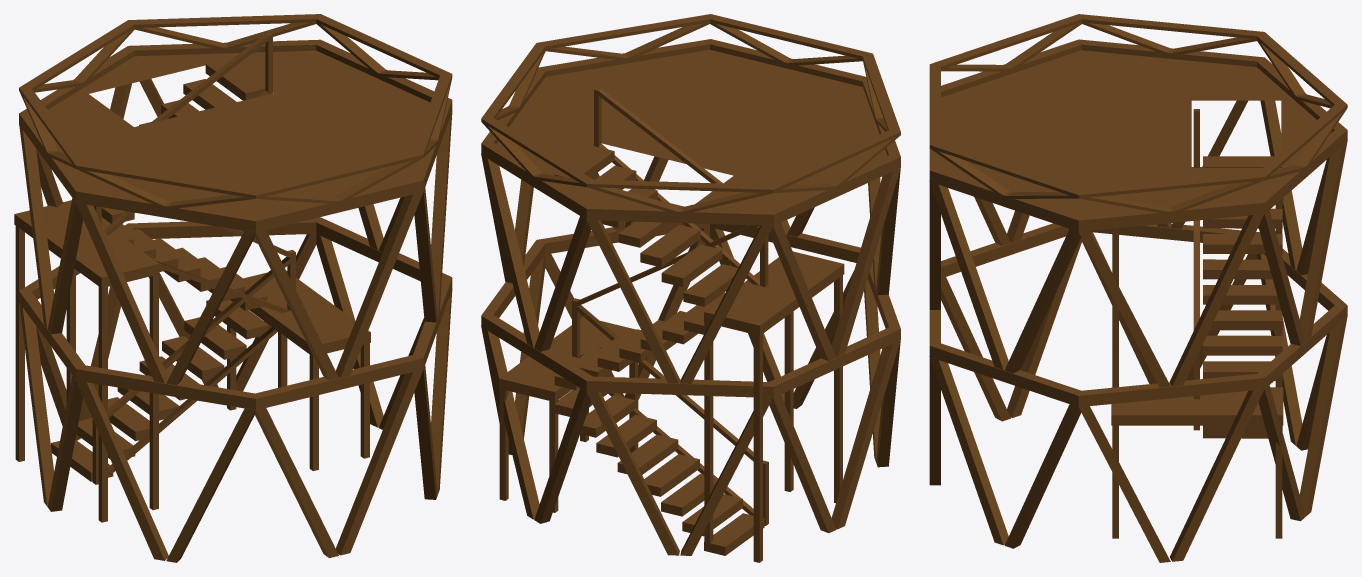
Rendered from TorreArquerosNivel1.fbx.
3 renders of one model, left to right at view 1: azimuth 30°, elevation 25°; view 2: azimuth 150°, elevation 25°; view 3: azimuth 270°, elevation 25°, orthographic. The views are drawn at different scales.
Visible parts, largest first — view 1: Torre de arqueros Nivel 1; view 2: Torre de arqueros Nivel 1; view 3: Torre de arqueros Nivel 1.
Boxes of the visible parts, <box> form: Torre de arqueros Nivel 1: <box>14,14,452,562</box>; Torre de arqueros Nivel 1: <box>481,14,900,562</box>; Torre de arqueros Nivel 1: <box>929,14,1347,562</box>.
Size of the model in its own units: 145 by 150 by 141.
